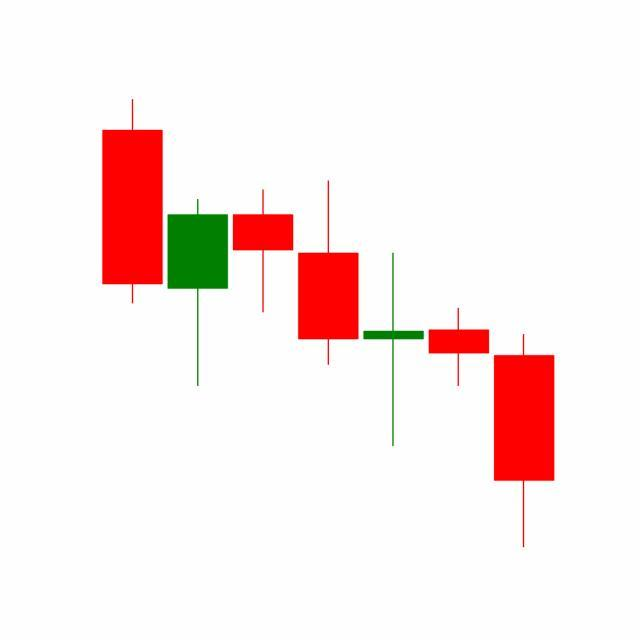Hikkake Pattern: (229, 176, 555, 549)
